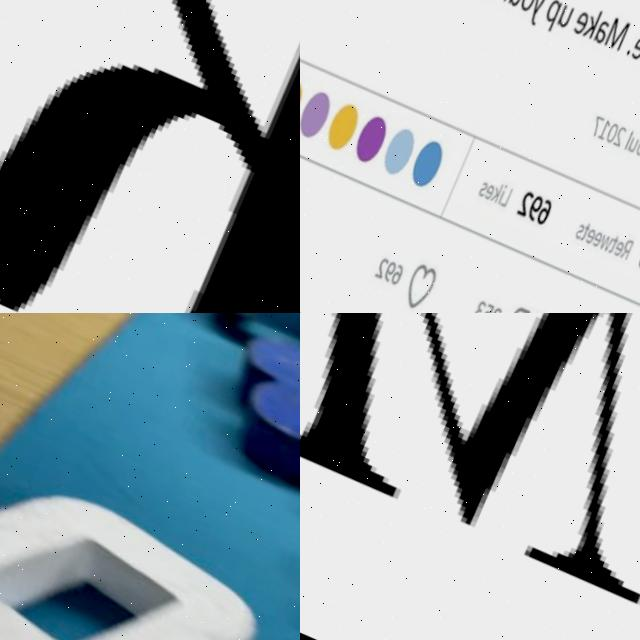1: (631, 252, 640, 283), (465, 304, 485, 313)
2: (522, 201, 546, 231), (376, 264, 396, 290)
3: (579, 119, 597, 143)
5: (512, 197, 537, 229), (369, 261, 388, 285)
A: (584, 24, 607, 53)
B: (164, 313, 300, 551)
E: (562, 14, 585, 42), (619, 39, 640, 69), (570, 231, 588, 252), (599, 244, 616, 266), (578, 235, 594, 255), (471, 186, 487, 206)
I: (484, 187, 500, 211)
J: (622, 137, 640, 163)
K: (0, 0, 300, 313), (572, 12, 598, 46), (478, 185, 496, 208)
L: (487, 188, 505, 213), (613, 135, 626, 156)
M: (300, 313, 640, 640), (594, 21, 626, 60), (631, 45, 640, 76)
O: (510, 0, 533, 18)
P: (532, 3, 558, 37)
Q: (0, 417, 273, 640)
R: (606, 244, 625, 269), (491, 0, 510, 6)
S: (466, 183, 480, 203), (561, 228, 576, 246)
T: (566, 226, 582, 247), (595, 239, 610, 261)
U: (549, 9, 569, 34), (615, 140, 632, 161), (498, 0, 521, 14)
W: (585, 237, 604, 259)
Y: (516, 0, 543, 32)
